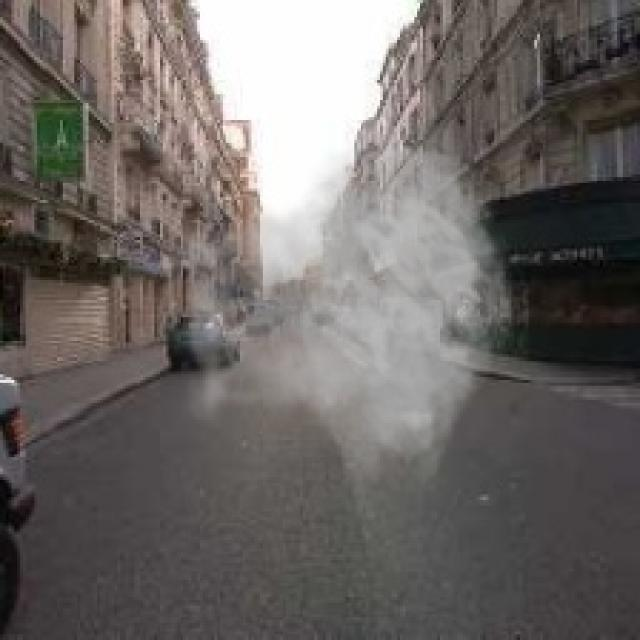smoke: (152, 123, 514, 491)
